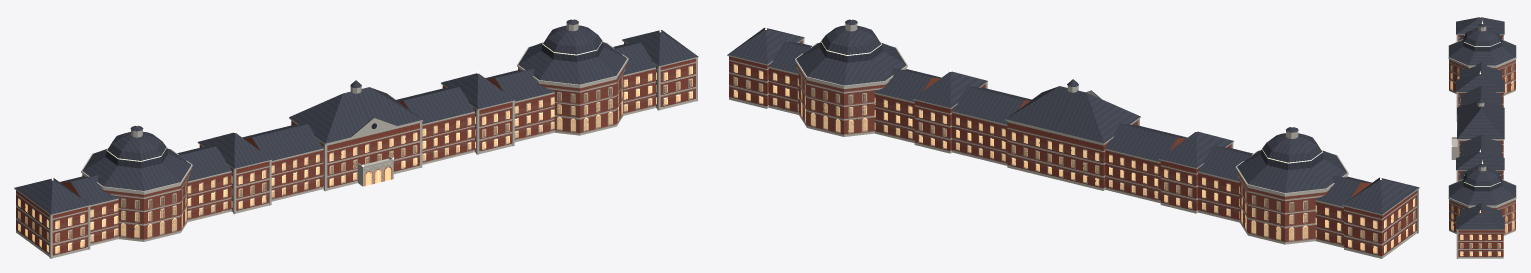
File: tokyo_station.glb
3 renders of one model, left to right at view 1: azimuth 30°, elevation 25°; view 2: azimuth 150°, elevation 25°; view 3: azimuth 270°, elevation 25°, orthographic. The views are drawn at different scales.
Parts seen in each view (by area): view 1: TS_Station; view 2: TS_Station; view 3: TS_Station.
Part boxes in pixels (left/top/right/bottom): TS_Station: left=14, top=14, right=698, bottom=258; TS_Station: left=727, top=15, right=1419, bottom=258; TS_Station: left=1448, top=14, right=1516, bottom=258.
Bounding box in the file's own units: 293 × 42.6 × 40.8.
9 materials, 5 textured.
